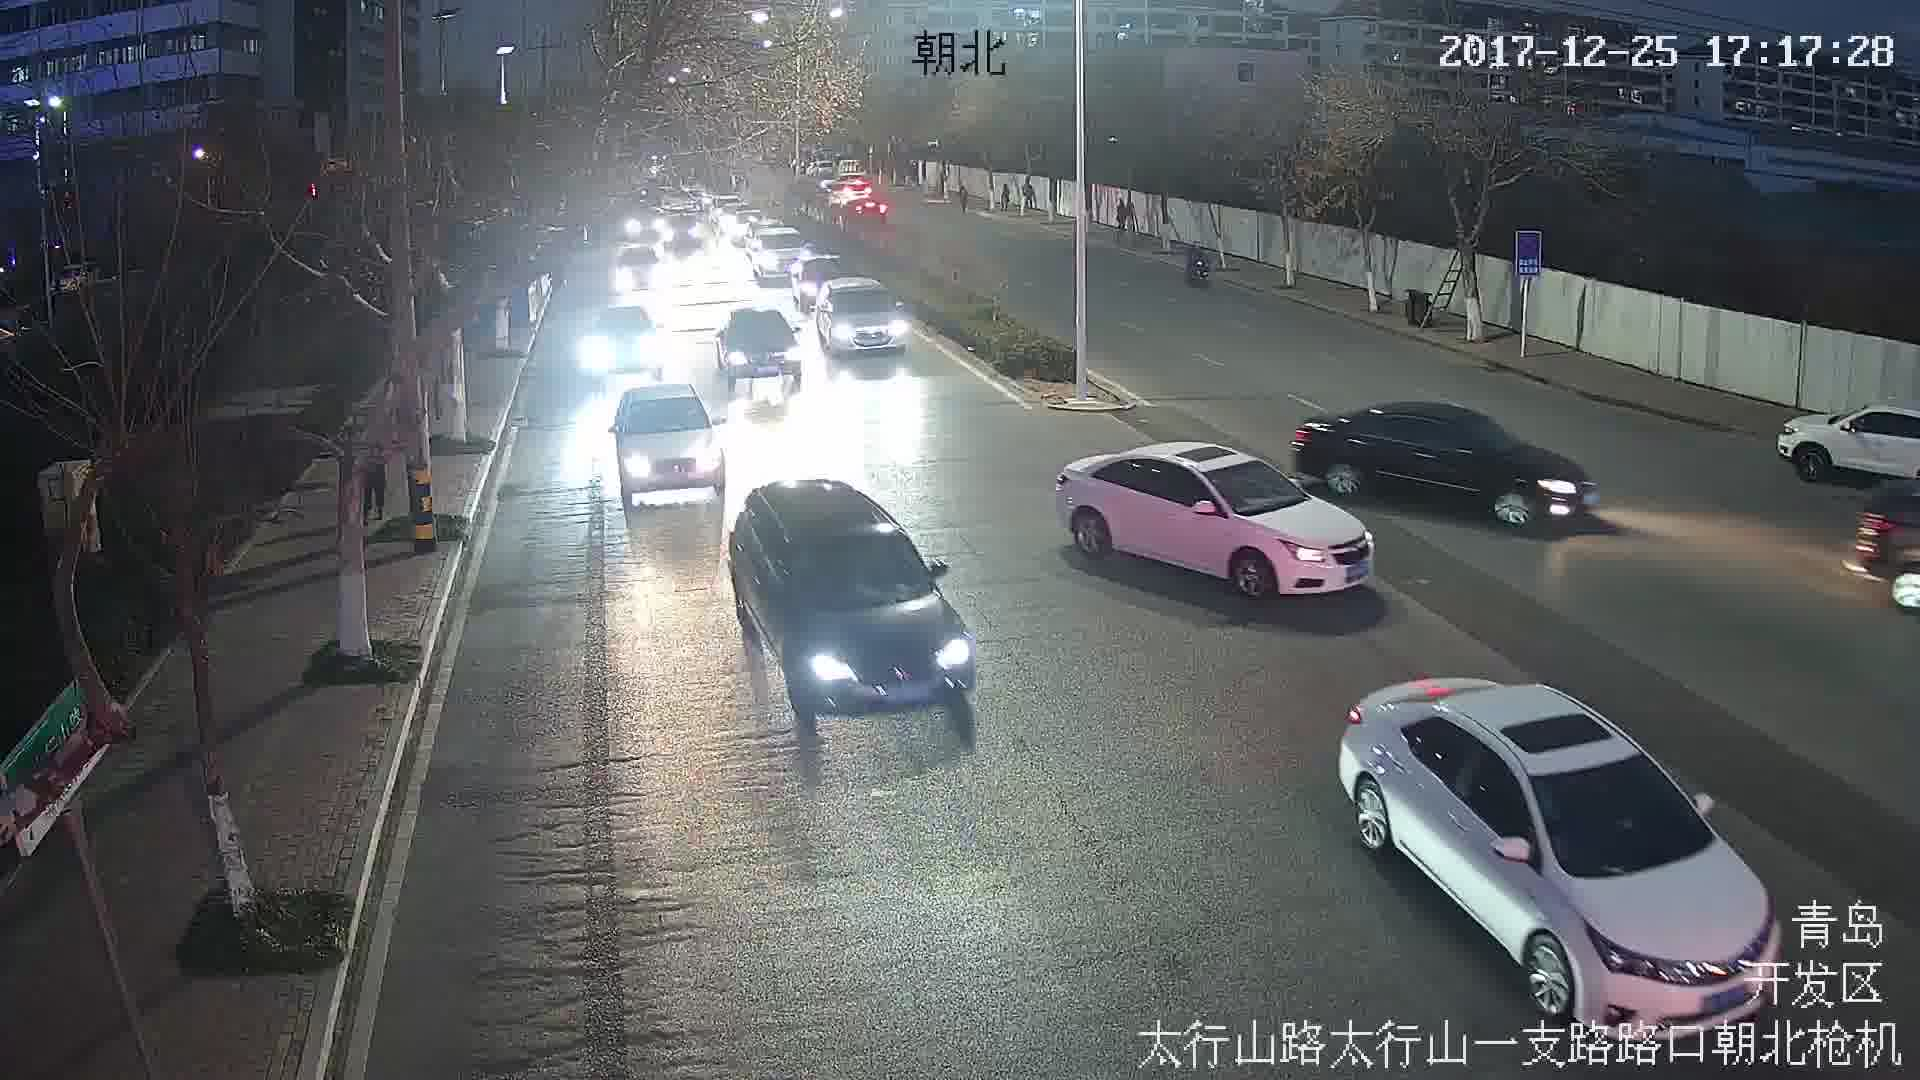car: (1328, 677, 1787, 1024), (724, 480, 975, 702), (1056, 444, 1373, 600), (1300, 402, 1607, 531), (613, 387, 721, 502), (814, 281, 909, 352), (713, 312, 800, 381)
